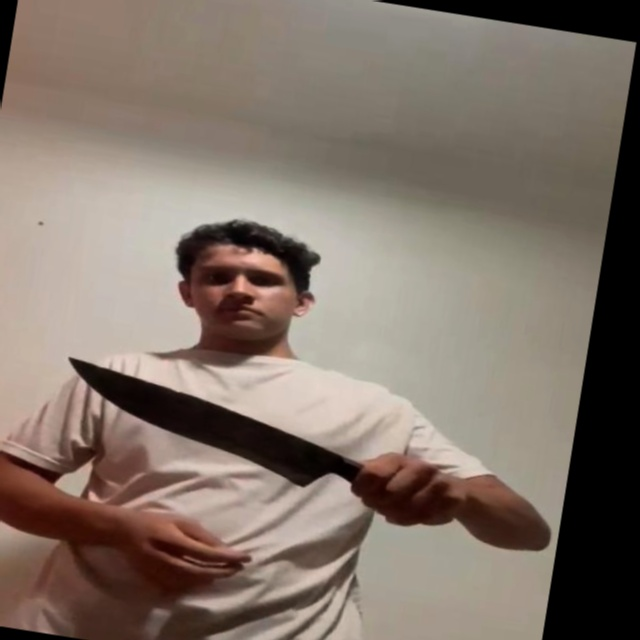Sharp-Object: (52, 357, 349, 493)
